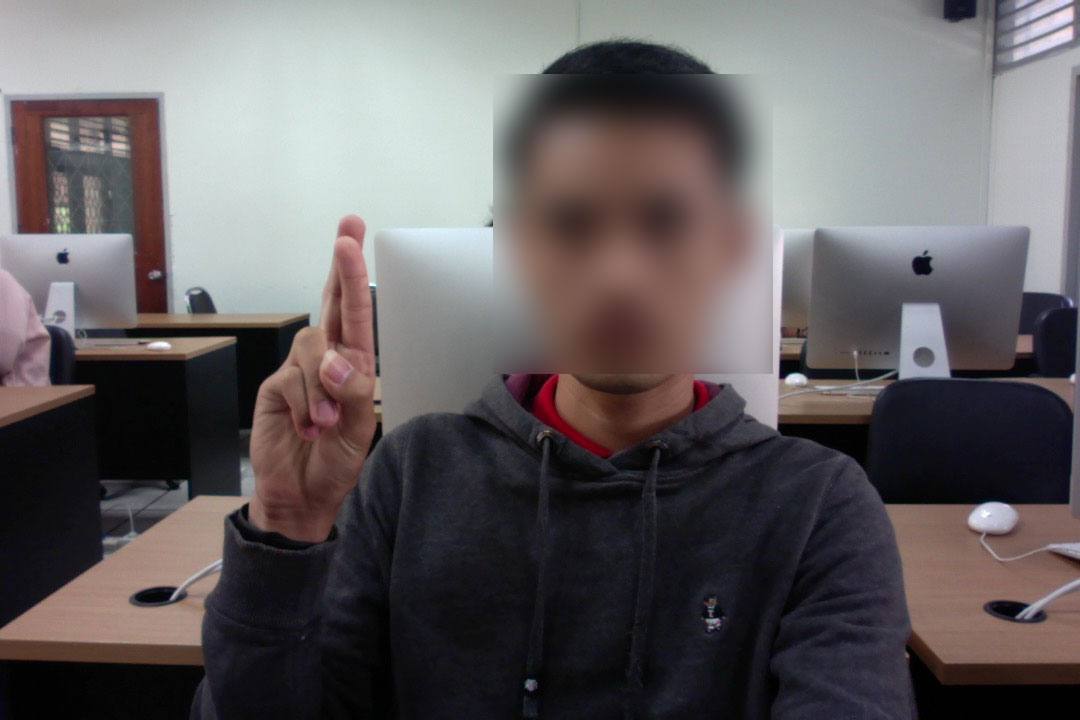rao: (238, 201, 413, 522)
